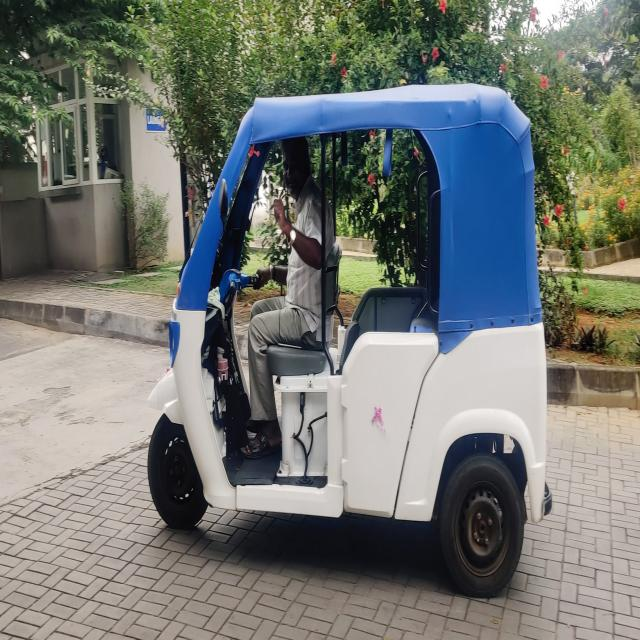autorickshaw: (149, 84, 546, 596)
